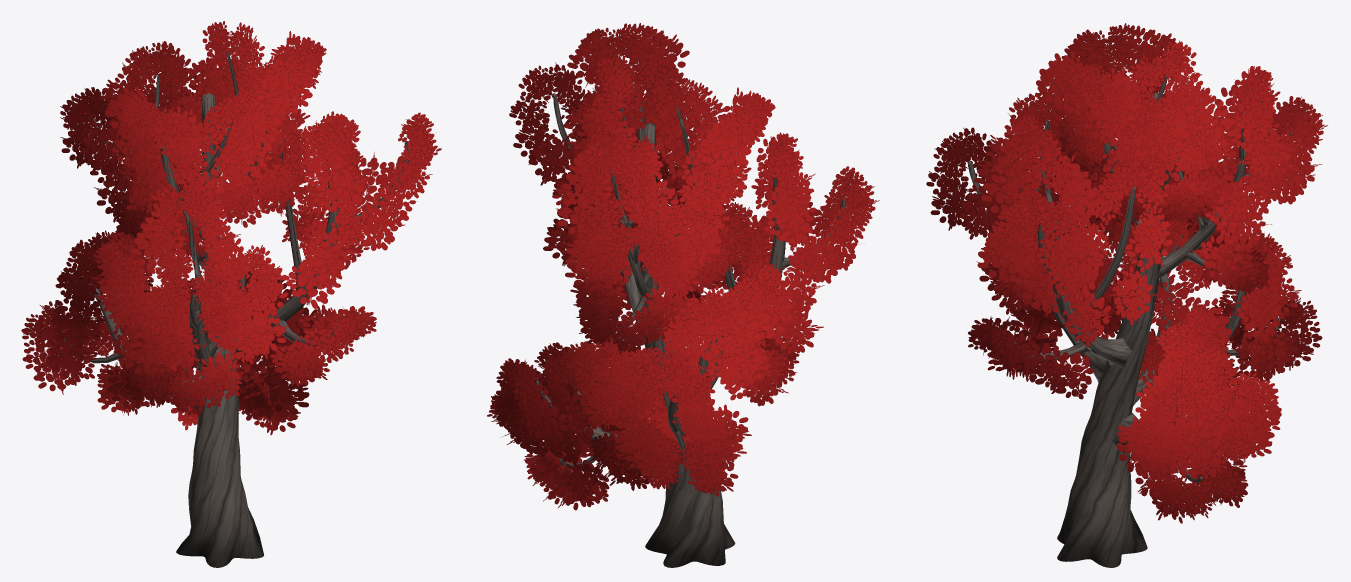
Rendered from TwistedTree_3.gltf.
The picture shows the model from 3 angles, left to right: view 1: azimuth 30°, elevation 25°; view 2: azimuth 150°, elevation 25°; view 3: azimuth 270°, elevation 25°; orthographic projection. The views are drawn at different scales.
Parts seen in each view (by area): view 1: TwistedTree_3; view 2: TwistedTree_3; view 3: TwistedTree_3.
Part boxes in pixels (x1=…): TwistedTree_3: x1=21, y1=21, x2=441, y2=567; TwistedTree_3: x1=487, y1=23, x2=879, y2=567; TwistedTree_3: x1=926, y1=23, x2=1327, y2=567.
Bounding box in the file's own units: 11.36 × 16.07 × 11.51.
2 materials, 2 textured.
